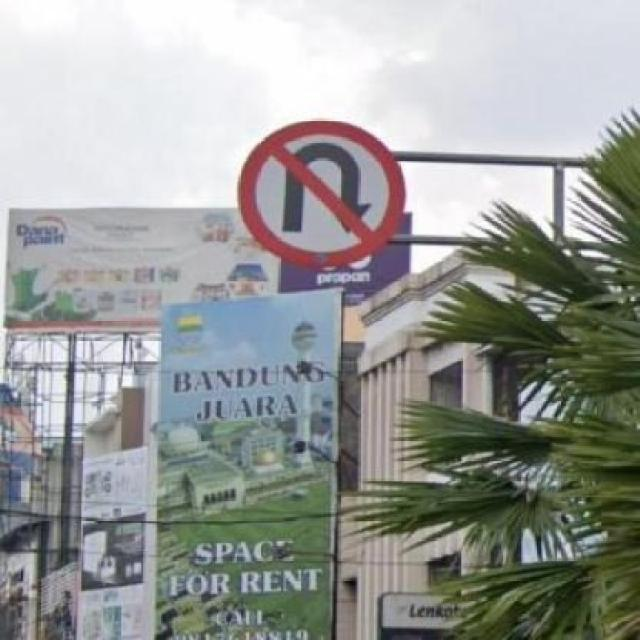u turn prohibited: (234, 118, 406, 271)
